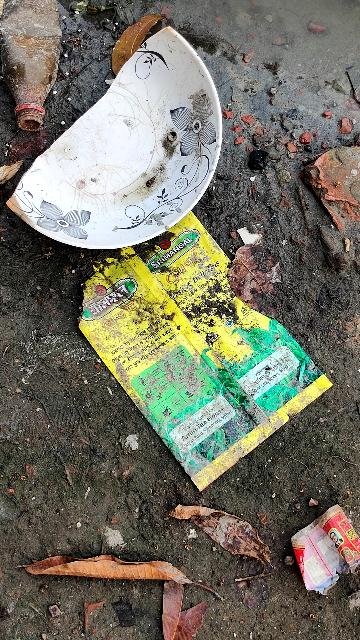packet: (58, 199, 340, 497)
